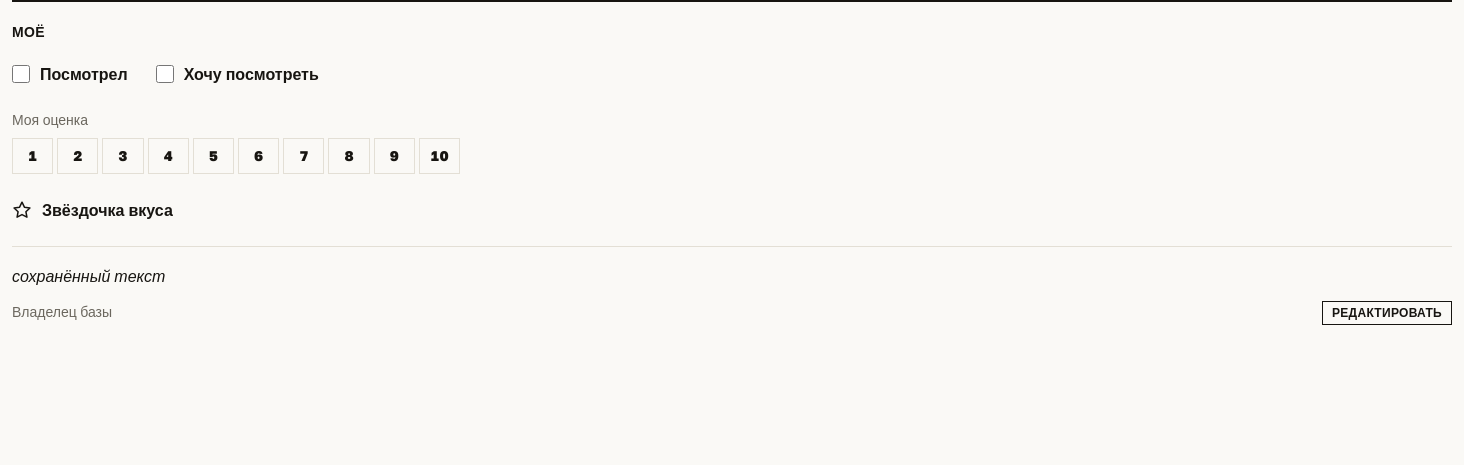
Test case: индикация сохранения и обработка ошибки › при отказе поле правки остаётся открытым, набранное цело (критерий 17)
The width and height of the screenshot is (1464, 465).
Click the button "Редактировать" at (1387, 313), box [1322, 301, 1452, 325]
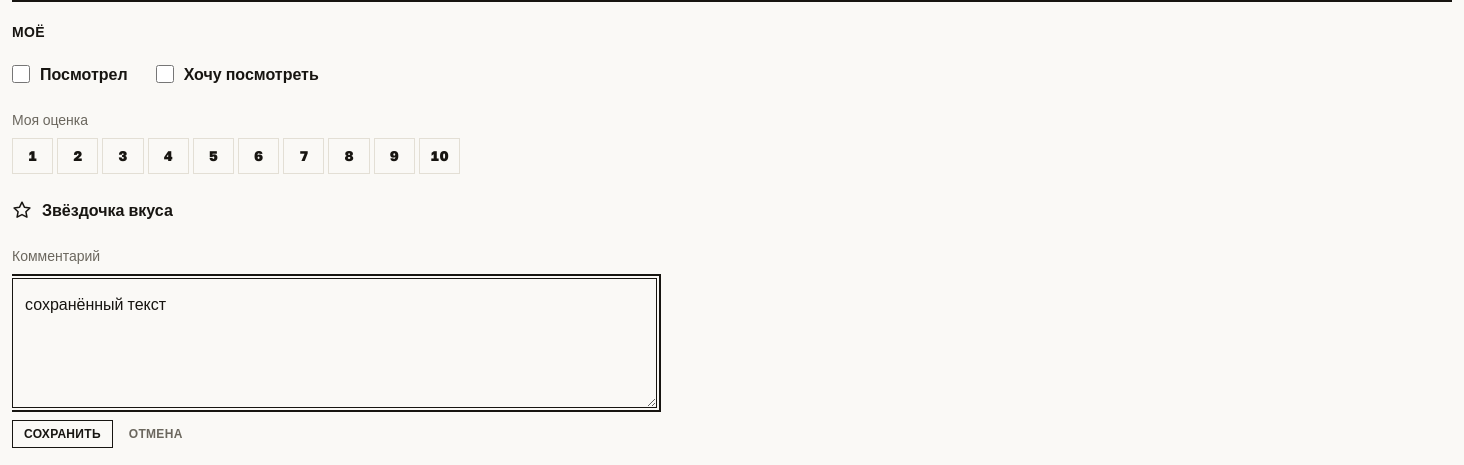
Replace the text in the text box with "черновик, который не доехал" at (334, 343), box [12, 278, 657, 408]
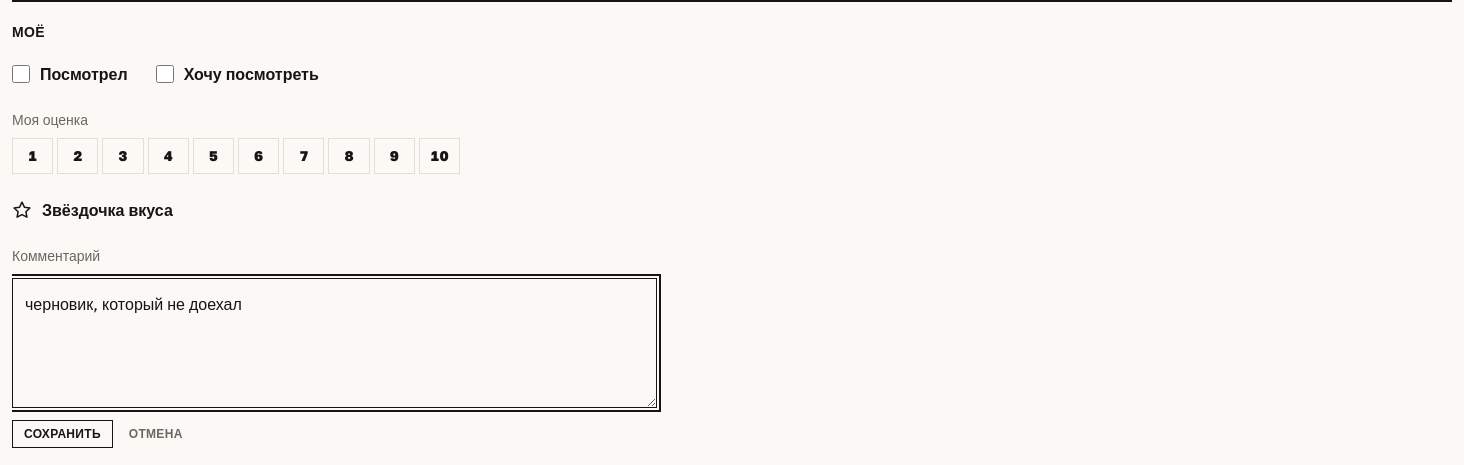
Click the button "Сохранить" at (62, 434), box [12, 420, 113, 448]
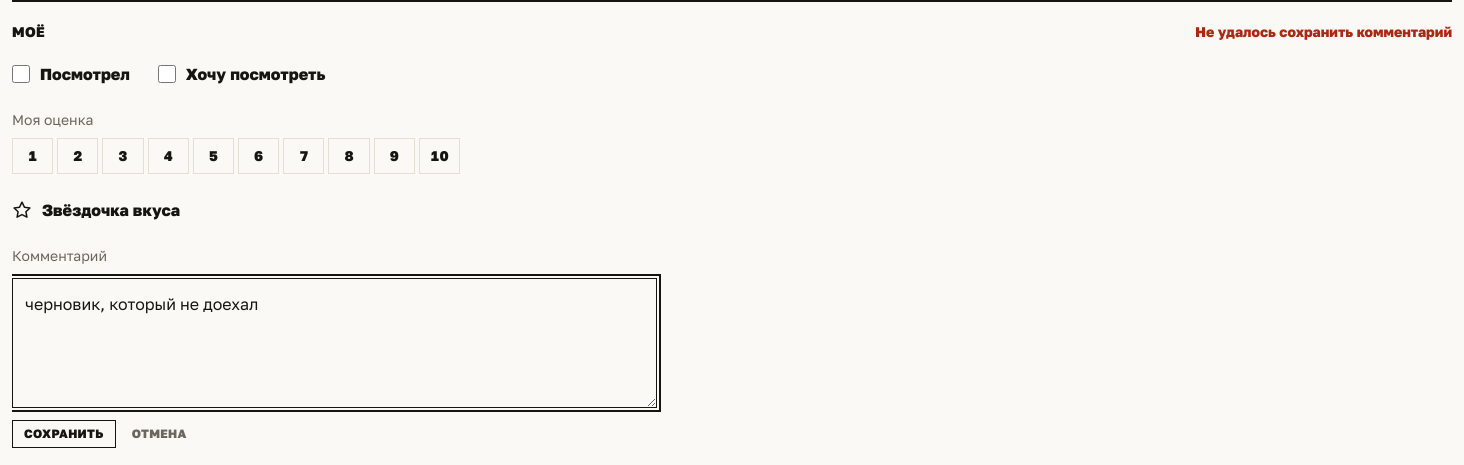
Expected: the button "Редактировать" is not shown
Expected: the text "Не удалось сохранить комментарий" is shown, [1195, 23, 1452, 40]
